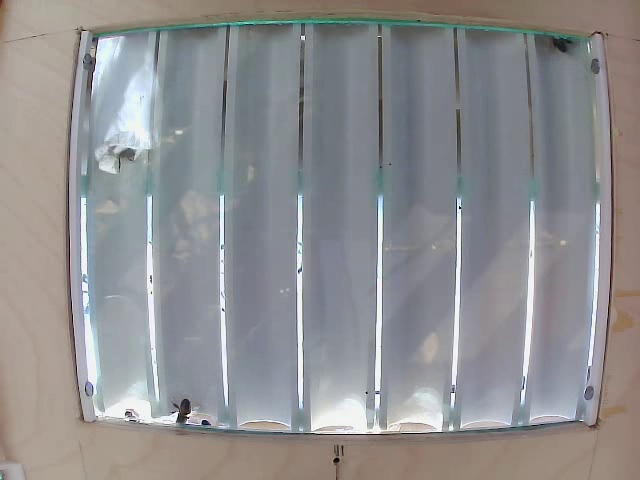bee: (102, 132, 140, 182), (540, 29, 577, 64), (169, 398, 205, 426)
